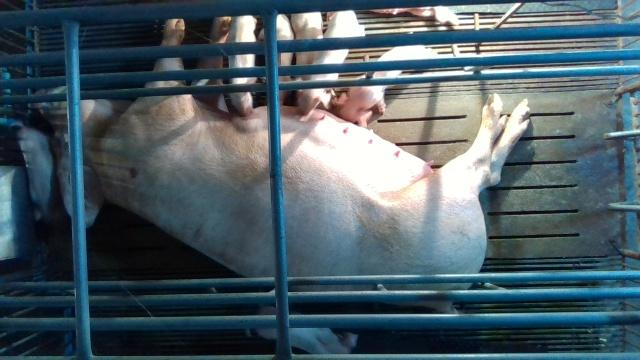piglet: (332, 46, 436, 129), (295, 11, 361, 116), (246, 304, 359, 354), (18, 127, 64, 225), (258, 14, 295, 106), (229, 16, 257, 117), (292, 13, 323, 81)
sow-sleep-lactate: (29, 16, 530, 313)
